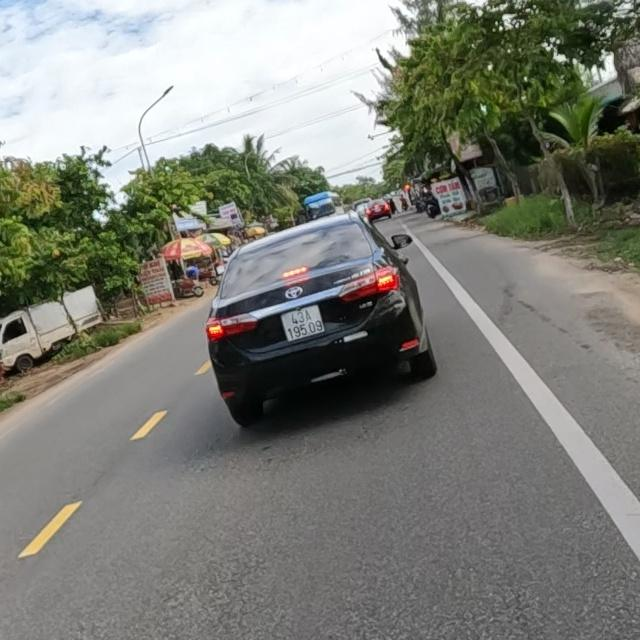license-plate: (278, 302, 326, 342)
